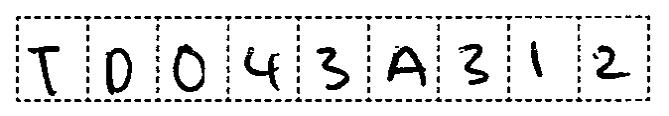0: (165, 40, 212, 96)
1: (520, 34, 554, 82)
2: (588, 41, 632, 82)
3: (309, 43, 356, 93), (453, 40, 492, 90)
4: (240, 41, 284, 95)
A: (382, 42, 432, 90)
D: (99, 41, 137, 97)
T: (22, 39, 70, 97)
